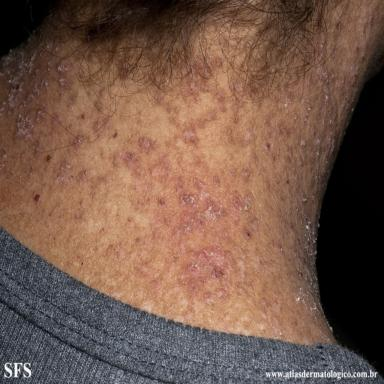Darier_s-Disease: (0, 3, 379, 342)
